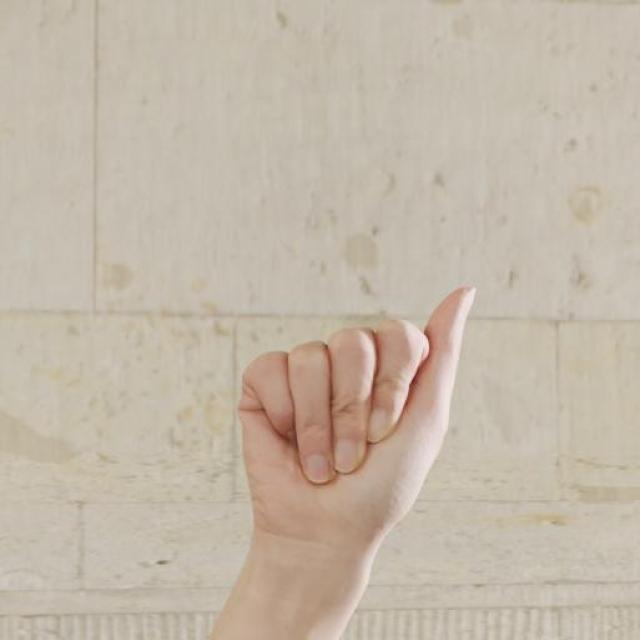A: (227, 286, 483, 524)
